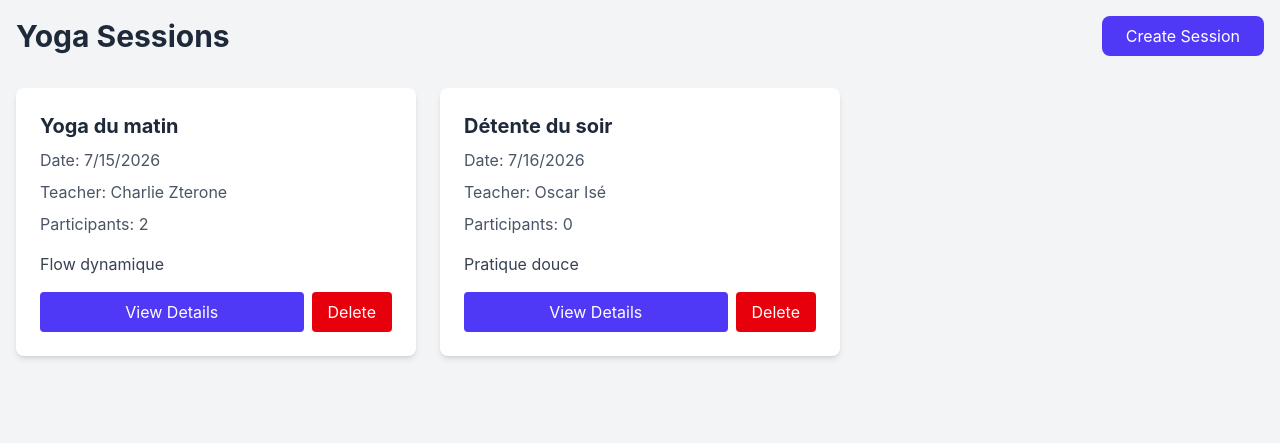
Test: Sessions (integration) › displays the error message if the deletion fails
The width and height of the screenshot is (1280, 443).
Click the button "Delete" below "Flow dynamique": {"x": 352, "y": 312} [312, 292, 392, 332]
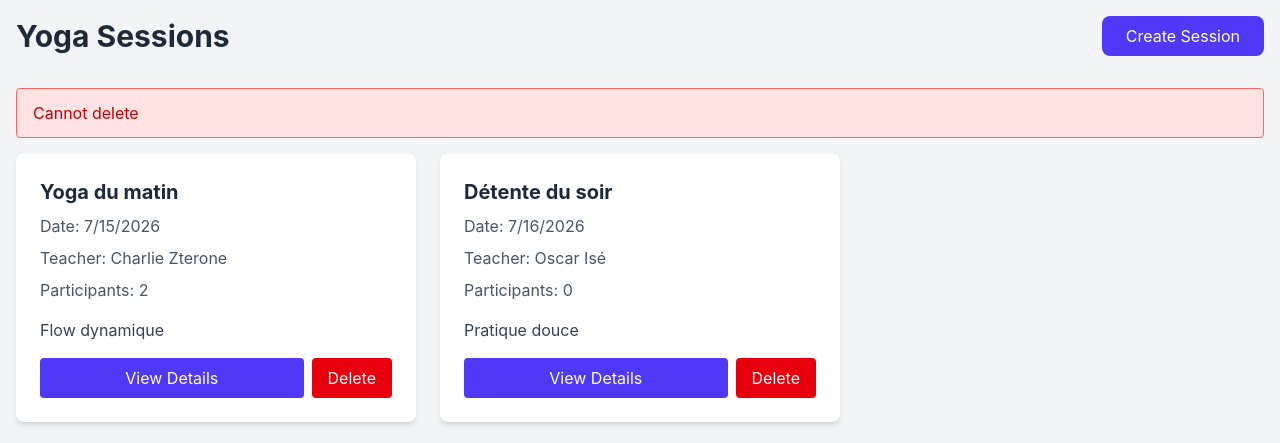
Expected: the text "Cannot delete" is shown, [16, 88, 1264, 138]
